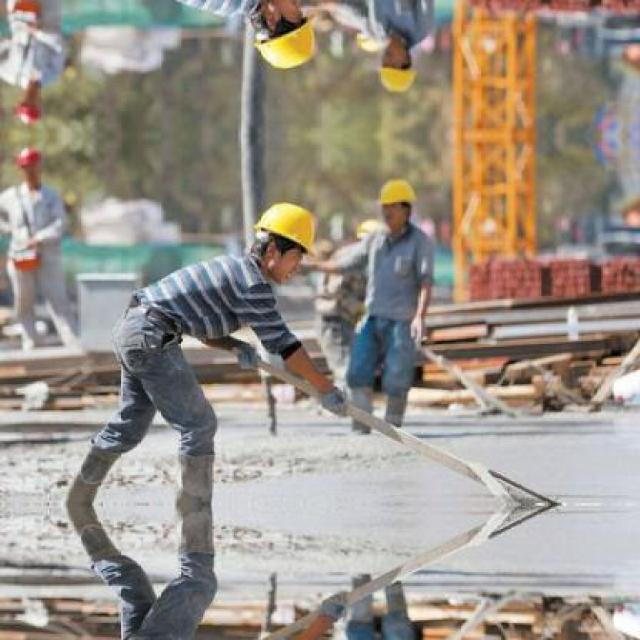helmet: (246, 195, 320, 278), (246, 0, 322, 77), (375, 174, 416, 229), (375, 42, 416, 97), (12, 87, 46, 129), (12, 142, 46, 183)
